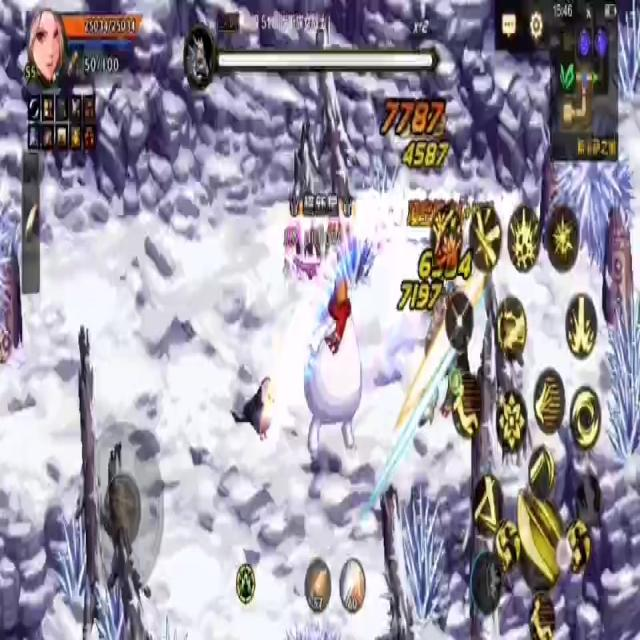player: (306, 275, 360, 459)
